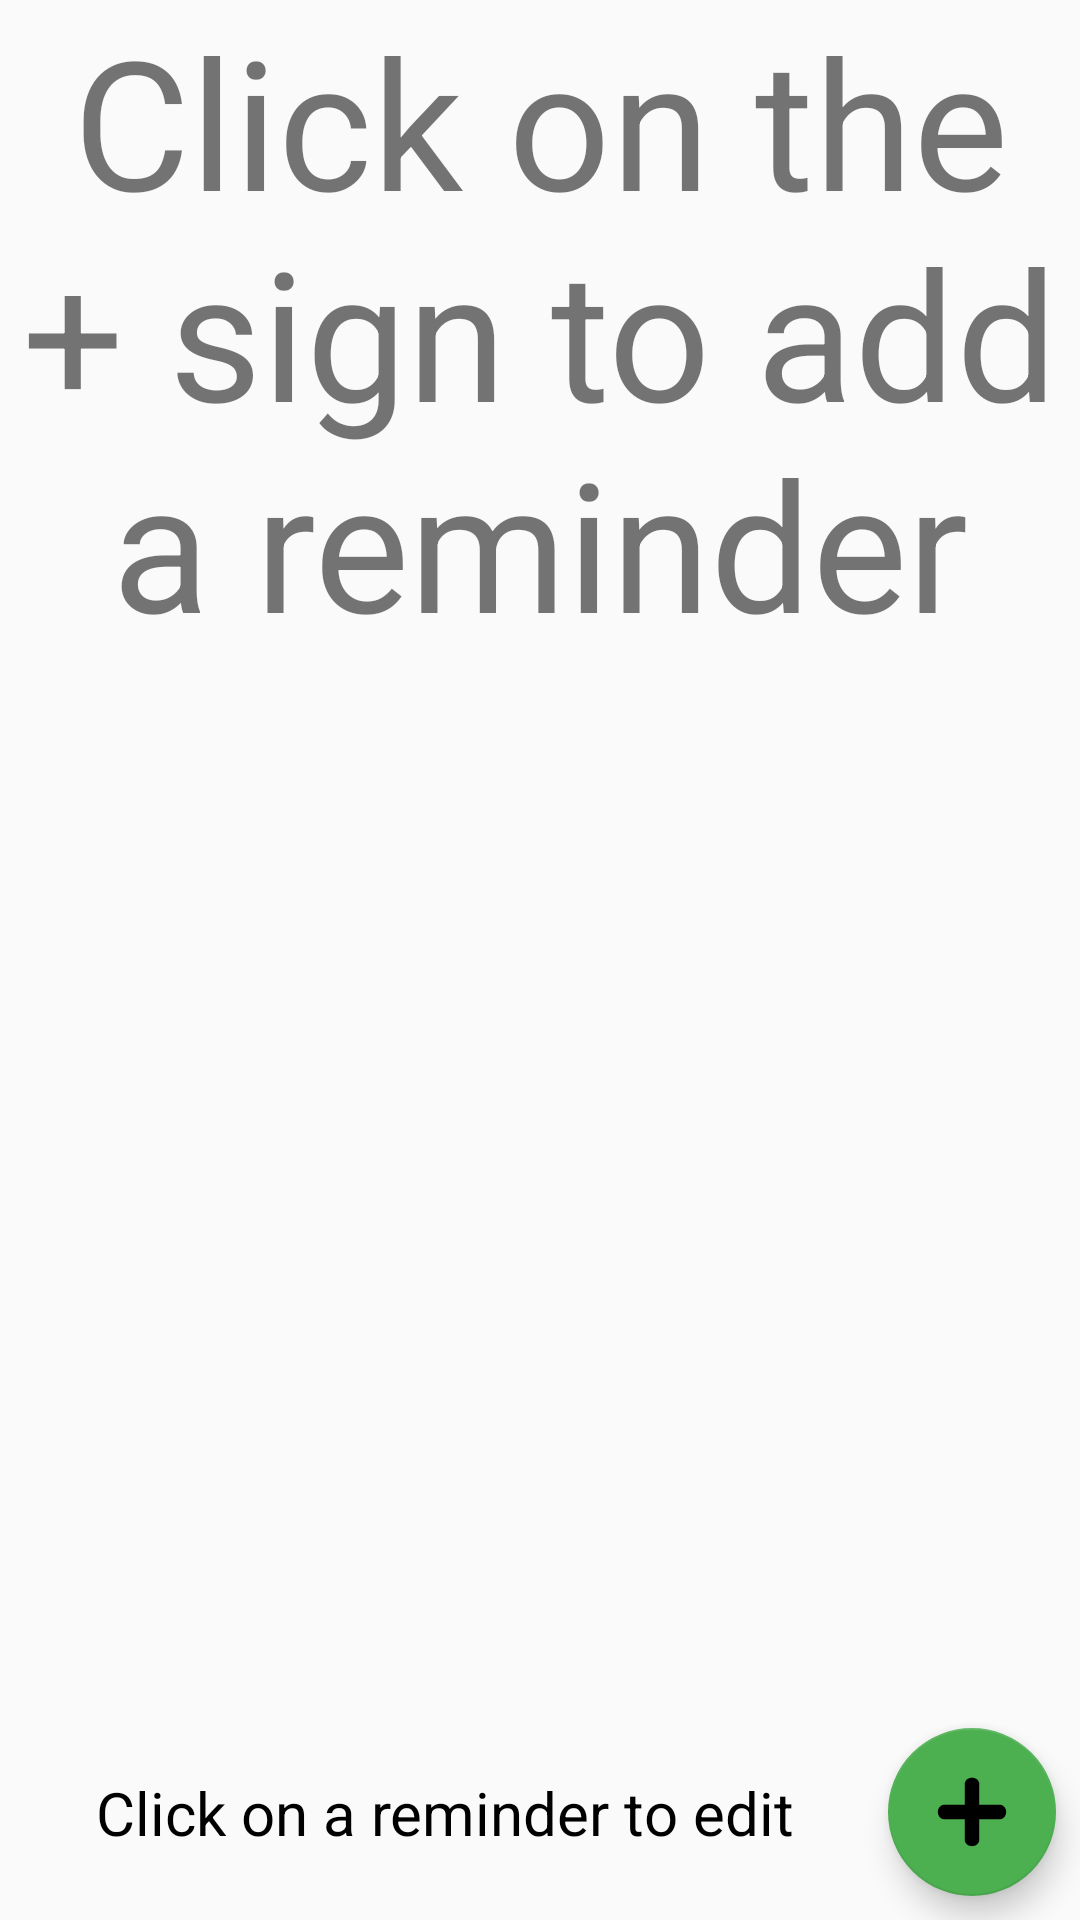

Where icons sit on this 1080px x 1920px app screen, as (left=x1, top=y1, right=x2, bottom=y2):
Add Match: (left=888, top=1728, right=1056, bottom=1896)
